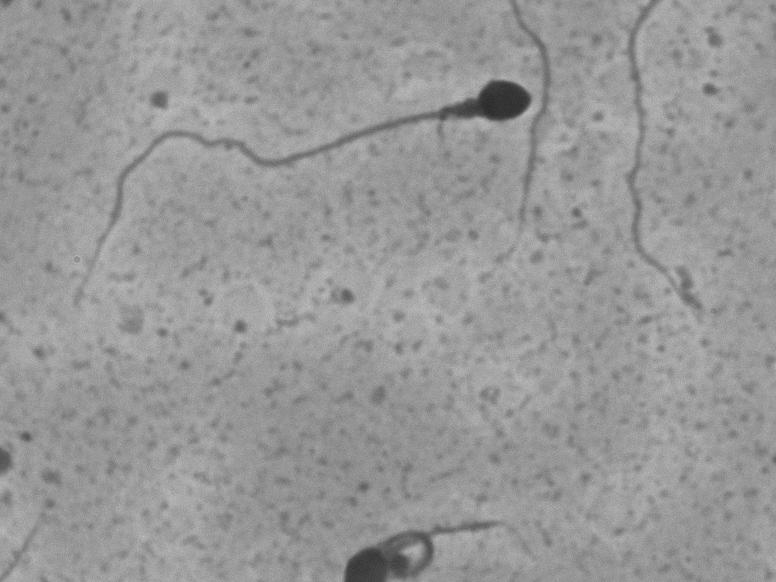Abnormal: (56, 61, 539, 328)
